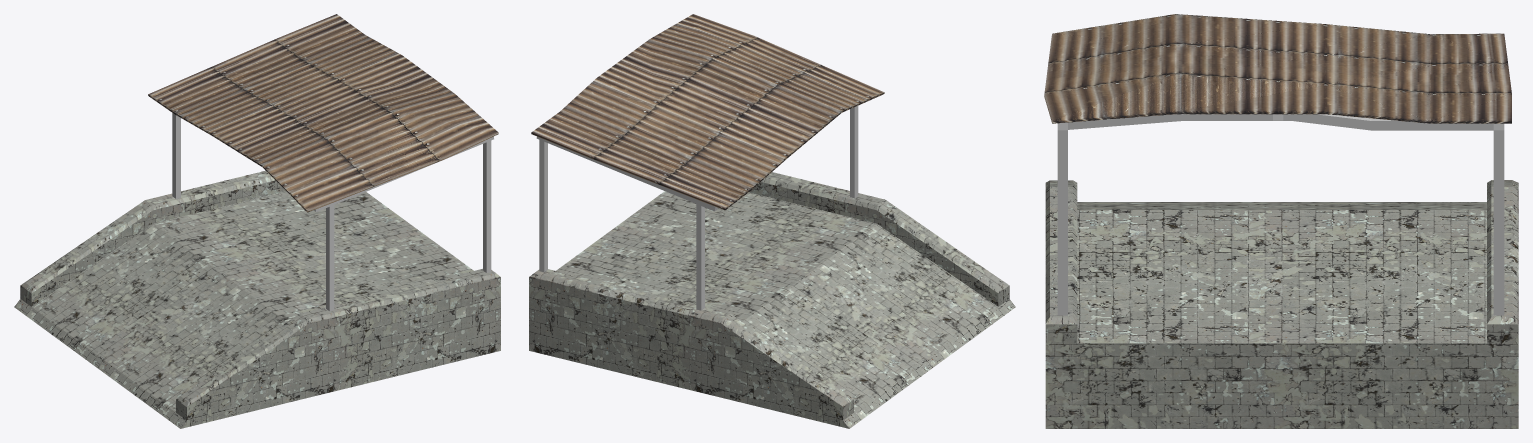
Rendered from ramp02.fbx.
The picture shows the model from 3 angles, left to right: view 1: azimuth 30°, elevation 25°; view 2: azimuth 150°, elevation 25°; view 3: azimuth 270°, elevation 25°; orthographic projection. The views are drawn at different scales.
Parts seen in each view (by area): view 1: Mesh Object; view 2: Mesh Object; view 3: Mesh Object.
Boxes of the visible parts, x1,y1,x2,y2 form: Mesh Object: [14, 14, 500, 428]; Mesh Object: [529, 14, 1015, 428]; Mesh Object: [1044, 14, 1518, 428].
Bounding box in the file's own units: 6.5 × 4.33 × 5.87.
